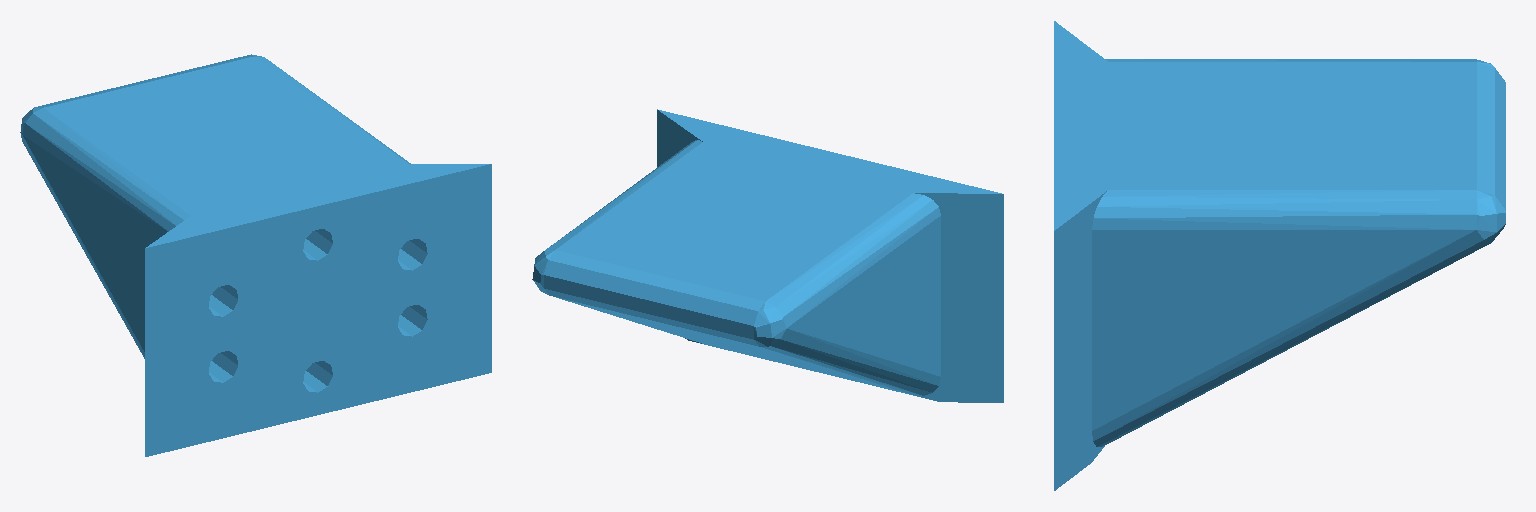
URDF robot description (test):
<!-- 同一 link 下多个 collision 几何重叠，本身通常不会触发“自碰撞”；它们会一起构成这个 link 的复合碰撞体 -->
<!-- 真正的风险不在“它们彼此撞上了”，而在“它们一起和外界接触时，接触法向、接触点数量、等效接触刚度变脏” -->
<!-- <inertial> 不写，Isaac Lab/Isaac Sim 不会简单把 link 变成“零质量不可动”，但会进入 importer/PhysX 的兜底逻辑；对指尖这种接触敏感部件，我不建议依赖这个兜底。 -->
<robot name="test">
  <link name="base_link"/>

  <joint name="tip_joint" type="fixed">
    <parent link="base_link"/>
    <child link="tip"/>
    <origin xyz="0 0 0" rpy="0 0 0"/>
  </joint>

  <link name="tip">
    <visual>
      <!-- wedge tip 语义：较平坦的一侧是底部，底部中心对齐 joint 原点；y 轴从底部指向指尖。
           当前网格的“斜坡朝向”沿原始 +x，因此这里绕 y 轴转 -pi/2，把斜面侧向约定为 +z，x 轴由右手系确定。
           同时把孔径标定到 2mm：原始圆孔半径约 1.45 个网格单位，故 scale 取 0.000689655...。 -->
      <origin xyz="-0.0113793103448 0 -0.00655172413793" rpy="0 -1.57079632679 0"/>
      <geometry>
        <mesh filename="wedge_finger_tip_soft.stl" scale="0.0006896551724 0.0006896551724 0.0006896551724"/>
      </geometry>
    </visual>
    <collision>
      <origin xyz="-0.0113793103448 0 -0.00655172413793" rpy="0 -1.57079632679 0"/>
      <geometry>
        <mesh filename="wedge_finger_tip_soft.stl" scale="0.0006896551724 0.0006896551724 0.0006896551724"/>
      </geometry>
    </collision>
  </link>
</robot>

--- Render facts (derived) ---
Views: 3 orthographic renders of the robot side by side, from view 1: azimuth 30°, elevation 25°; view 2: azimuth 150°, elevation 25°; view 3: azimuth 270°, elevation 25°.
Model test with 2 links and 1 joints (1 fixed), rooted at base_link, posed every joint at zero.
Links seen in each view (by area): view 1: tip; view 2: tip; view 3: tip.
Link boxes in pixels (x1=…): tip: x1=20, y1=54, x2=491, y2=456; tip: x1=532, y1=109, x2=1003, y2=402; tip: x1=1054, y1=21, x2=1505, y2=490.
Size in the robot's own frame: 0.0228 by 0.0206 by 0.0131 metres.
1 mesh visuals loaded from 1 distinct referenced files (1 binary STL).
